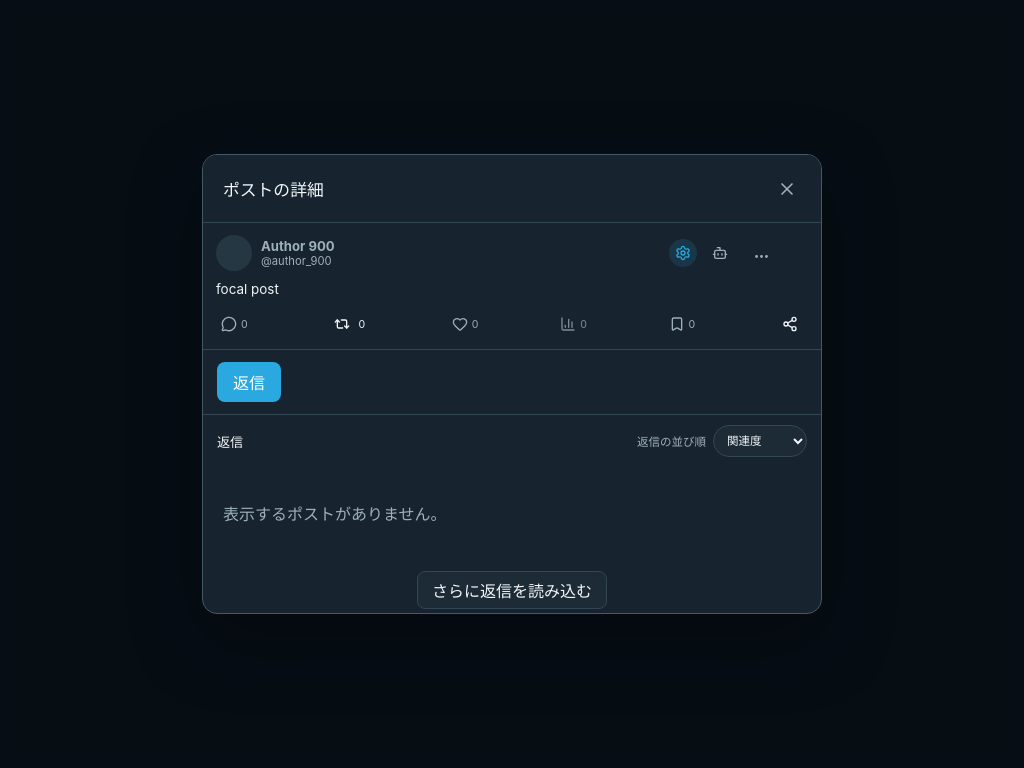
Scenario: continues empty pages with new cursors and permits retry after a failure
Expected: the text "focal post" is shown, [216,281,279,297]
Click the button "さらに返信を読み込む".
click(512, 590)  # box [417,571,607,609]
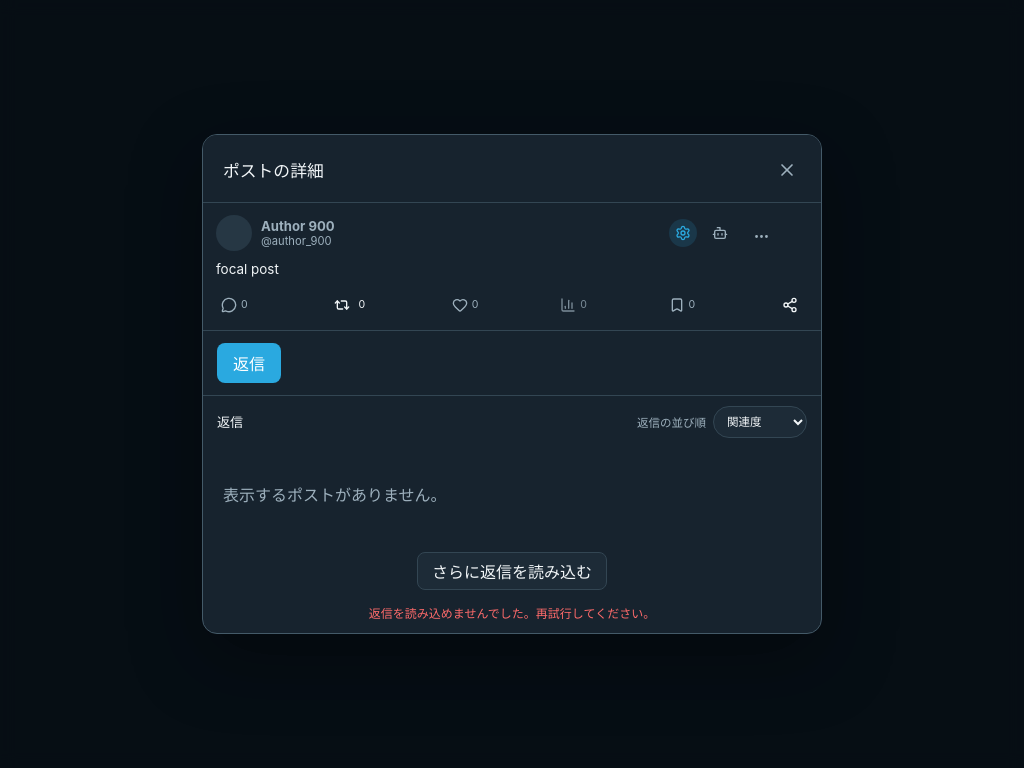
Result: the text "返信を読み込めませんでした。再試行してください。" is shown at [369,604,655,621]
Click the button "さらに返信を読み込む".
click(512, 571)  # box [417,552,607,590]
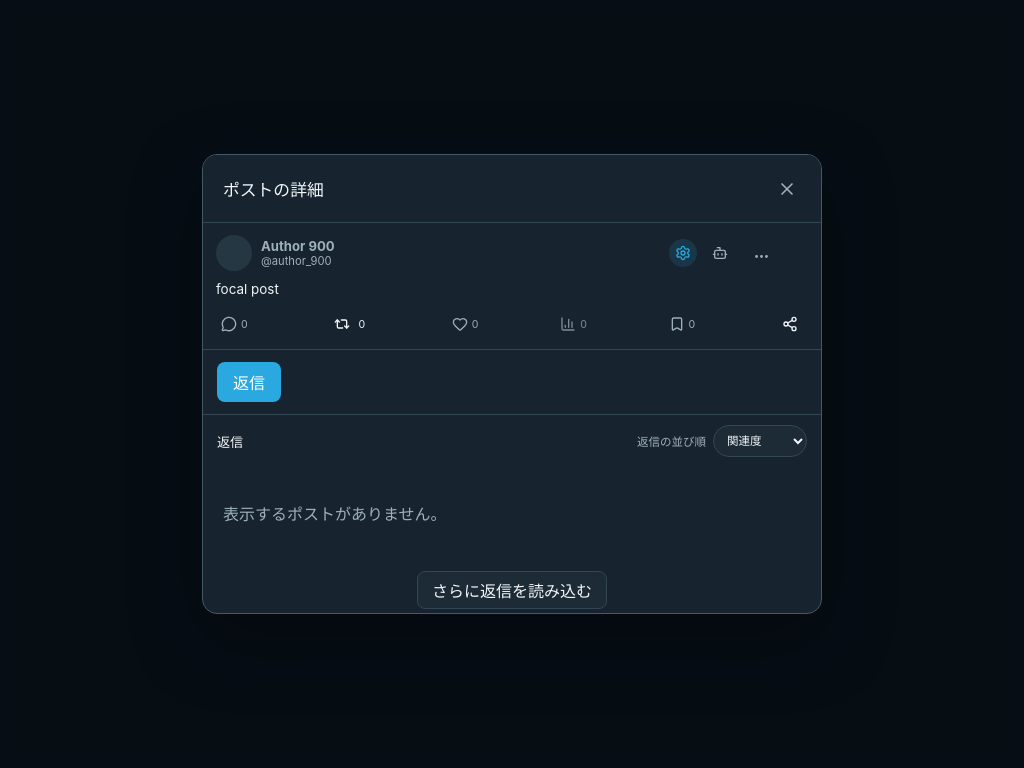
Result: the text with class "inline-error" is gone
Click the button "さらに返信を読み込む".
click(512, 590)  # box [417,571,607,609]
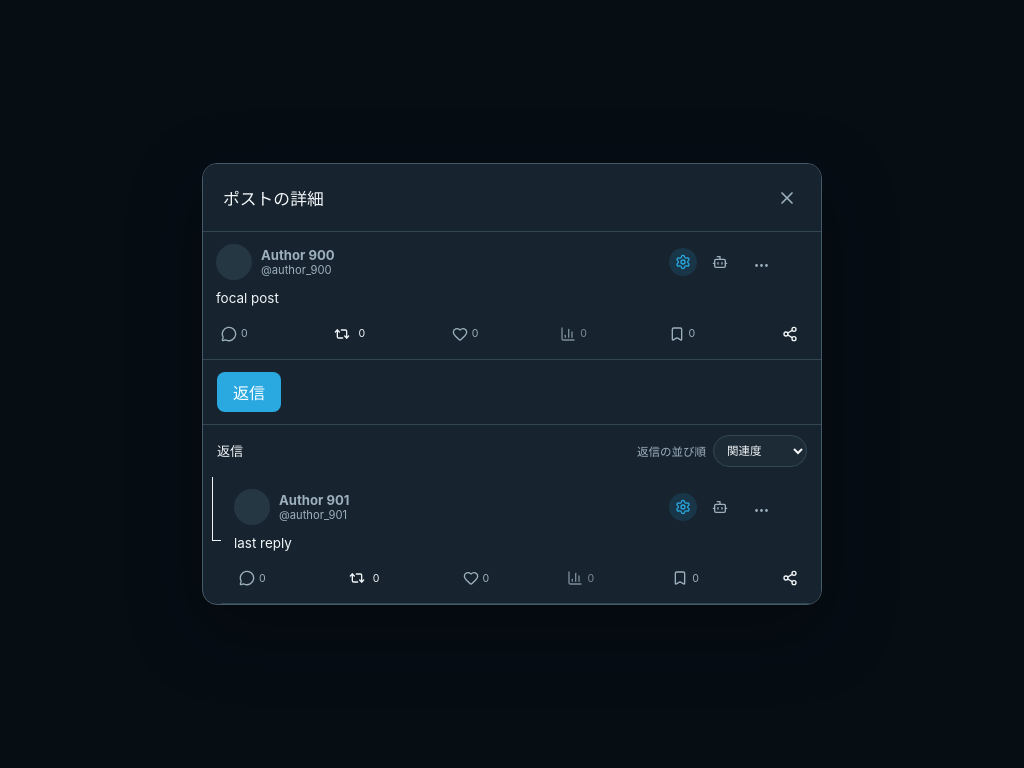
Result: the text "last reply" is shown at [234,534,292,550]
Result: the element with class "detail-load-more" is gone
